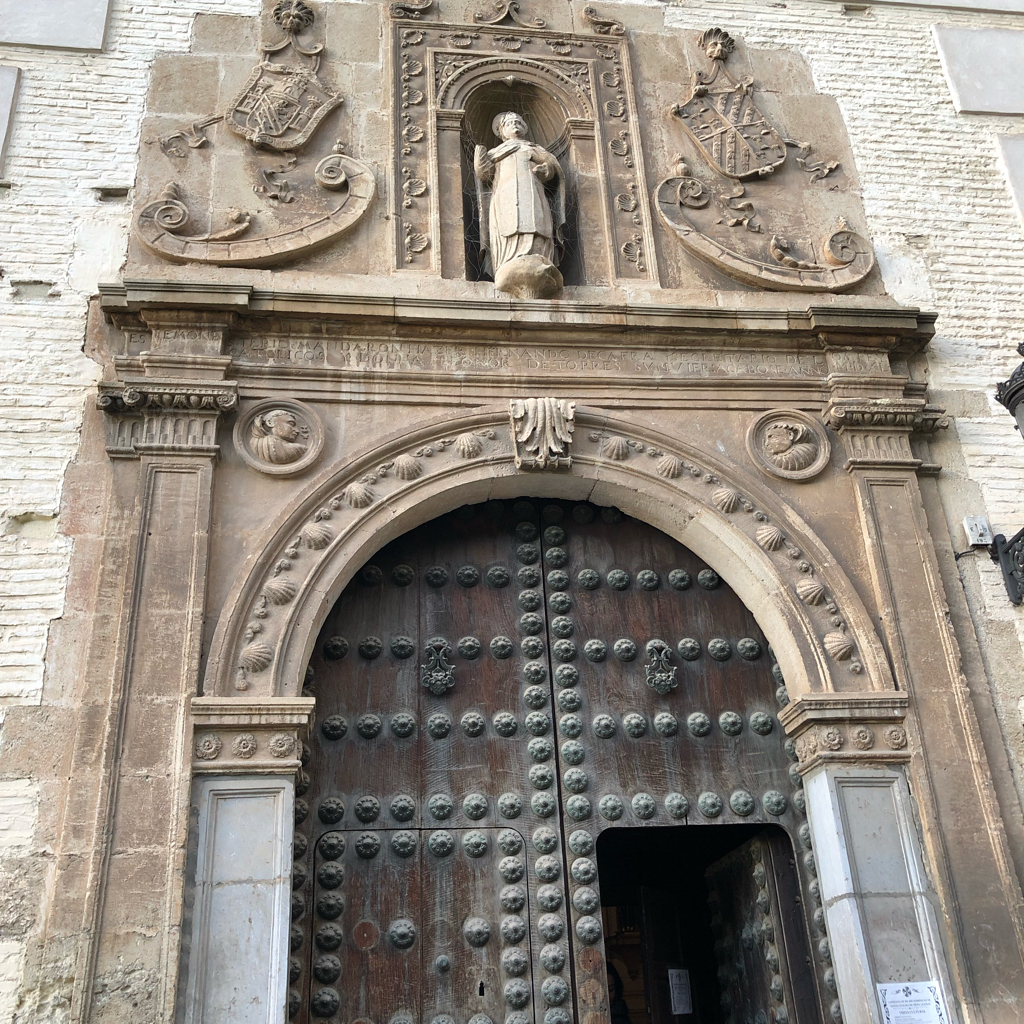arco-medio-punto: (276, 432, 834, 812), (446, 60, 596, 156)
fronton-partido: (126, 150, 876, 316)
